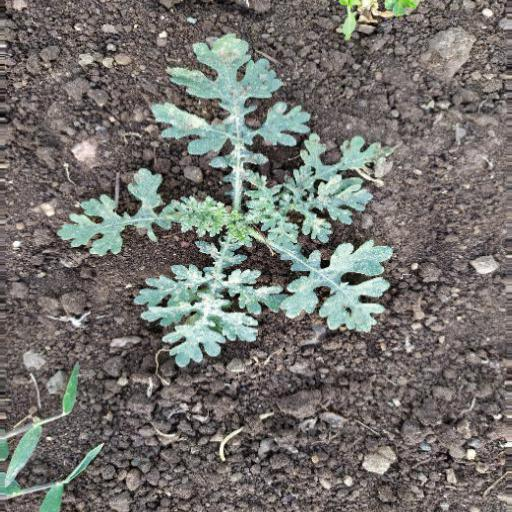weed: (49, 31, 404, 361)
